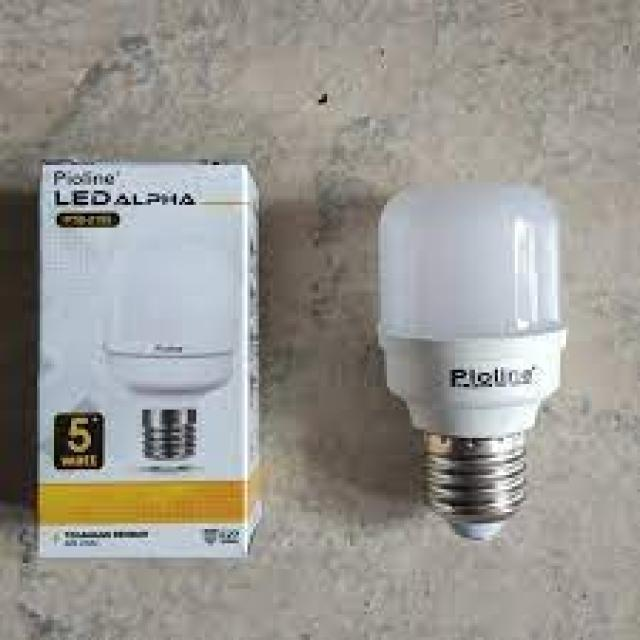light_bulb: (362, 171, 570, 549)
